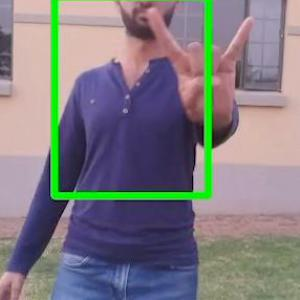takeoff-hand: (142, 0, 259, 141)
